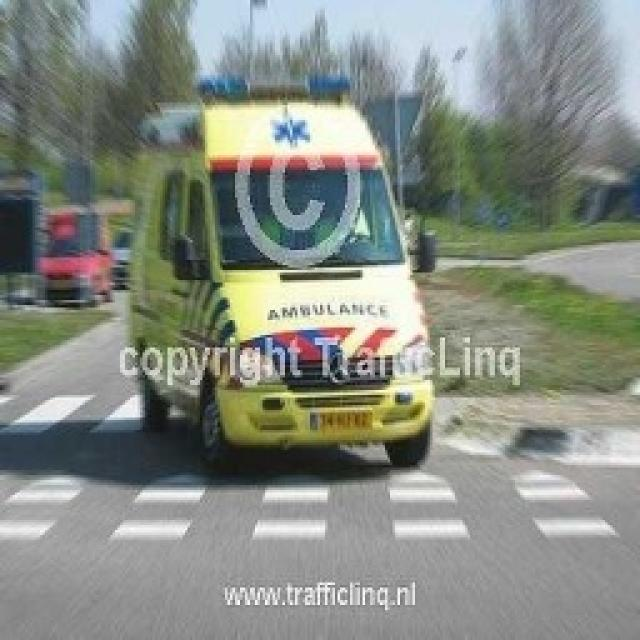emergency-vehicle: (133, 75, 437, 480)
